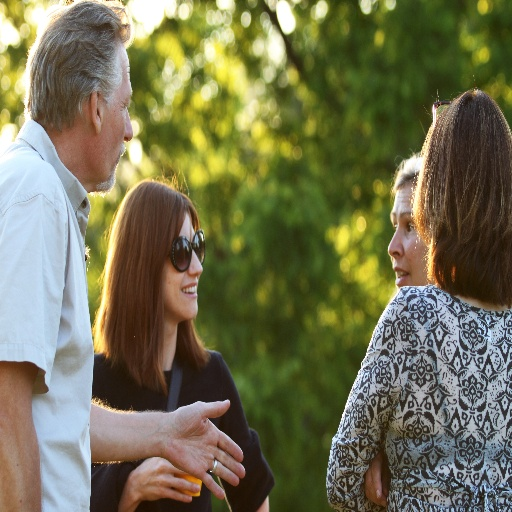hand: (122, 393, 239, 478), (129, 455, 201, 505), (364, 452, 391, 509)
